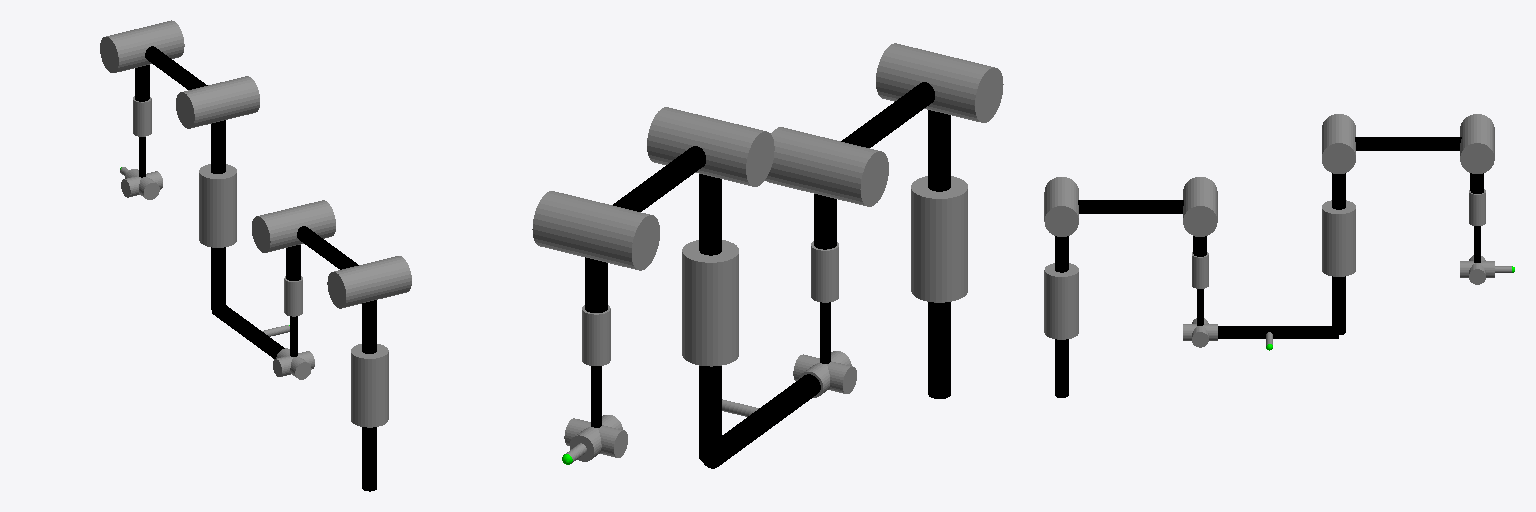
--- Render facts (derived) ---
Views: 3 orthographic renders of the robot side by side, from view 1: azimuth 30°, elevation 25°; view 2: azimuth 150°, elevation 25°; view 3: azimuth 270°, elevation 25°.
Model twelvedof with 48 links and 47 joints (12 continuous, 35 fixed), rooted at world, posed all joints at 0.
Visible links, largest first — view 1: motor2, motor8, motor7, motor1, motor9, motor3, mountl, mount1, mount7, mount2, mount8, motor4 (+3 smaller); view 2: motor9, motor1, motor7, motor3, motor8, motor2, mountl, mount7, mount1, mount2, mount8, motor10 (+13 smaller); view 3: motor1, motor7, motor2, motor3, motor9, motor8, mountl, mount1, mount7, mount10, mount4, mount3 (+3 smaller).
Link boxes in pixels (left/top/right/bottom): motor2: left=327, top=256, right=411, bottom=308; motor8: left=176, top=76, right=259, bottom=128; motor7: left=199, top=164, right=236, bottom=247; motor1: left=351, top=344, right=388, bottom=427; motor9: left=100, top=20, right=184, bottom=72; motor3: left=252, top=200, right=335, bottom=252; mountl: left=212, top=304, right=284, bottom=358; mount1: left=362, top=427, right=376, bottom=491; mount7: left=211, top=247, right=225, bottom=309; mount2: left=362, top=300, right=376, bottom=353; mount8: left=211, top=120, right=225, bottom=173; motor4: left=284, top=276, right=302, bottom=316; motor9: left=532, top=191, right=659, bottom=270; motor1: left=911, top=176, right=967, bottom=302; motor7: left=682, top=240, right=738, bottom=366; motor3: left=765, top=127, right=888, bottom=206; motor8: left=647, top=107, right=774, bottom=186; motor2: left=876, top=43, right=1003, bottom=122; mountl: left=702, top=374, right=820, bottom=468; mount7: left=699, top=366, right=721, bottom=462; mount1: left=928, top=302, right=950, bottom=398; mount2: left=928, top=110, right=950, bottom=191; mount8: left=699, top=174, right=721, bottom=255; motor10: left=582, top=305, right=610, bottom=365; motor1: left=1044, top=263, right=1078, bottom=339; motor7: left=1322, top=200, right=1355, bottom=276; motor2: left=1044, top=177, right=1078, bottom=236; motor3: left=1183, top=177, right=1217, bottom=236; motor9: left=1460, top=114, right=1494, bottom=173; motor8: left=1322, top=114, right=1355, bottom=173; mountl: left=1218, top=326, right=1338, bottom=338; mount1: left=1055, top=339, right=1068, bottom=397; mount7: left=1332, top=276, right=1345, bottom=334; mount10: left=1408, top=137, right=1461, bottom=150; mount4: left=1131, top=200, right=1183, bottom=213; mount3: left=1078, top=200, right=1130, bottom=213.
Size in the robot's own frame: 0.21 by 1.36 by 0.85 metres.
Geometry: primitives only (box / cylinder / sphere), no mesh files.

The robot description file, URDF, robot "twelvedof":
<?xml version="1.0"?>

<robot name="twelvedof">
  
  <!-- *************************************************** -->
  <!-- ******************** Kinematics ******************* -->
  <!-- *************************************************** -->

  <link name="world"/>

  <joint name="theta1" type="continuous">
    <parent link="world"/>
    <child  link="link1"/>
    <origin xyz="0 0 0.6" rpy="0 0 0"/>
    <axis   xyz="0 0 1"/>
    <dynamics damping="5.0"/>
  </joint>

  <link name="link1"/>

  <joint name="theta2" type="continuous">
    <parent link="link1"/>
    <child  link="link2"/>
    <origin xyz="0 0 0" rpy="0 0 0"/>
    <axis   xyz="1 0 0"/>
    <dynamics damping="5.0"/>
  </joint>

  <link name="link2"/>

  <joint name="attach-shoulder" type="fixed">
    <parent link="link2"/>
    <child  link="shoulder"/>
  </joint>

  <link name="shoulder"/>

  <joint name="theta3" type="continuous">
    <parent link="link2"/>
    <child  link="link3"/>
    <origin xyz="0 0.4 0" rpy="-1.5708 0 0"/>
    <axis   xyz="1 0 0 "/>
    <dynamics damping="1.0"/>
  </joint>

  <link name="link3"/>

  <joint name="attach-elbow" type="fixed">
    <parent link="link3"/>
    <child  link="elbow"/>
  </joint>

  <link name="elbow"/>

  <joint name="theta4" type="continuous">
    <parent link="link3"/>
    <child  link="link4"/>
    <origin xyz="0 0.4 0" rpy="0 0 0"/>
    <axis   xyz="0 1 0"/>
    <dynamics damping="0.2"/>
  </joint>

  <link name="link4"/>

  <joint name="theta5" type="continuous">
    <parent link="link4"/>
    <child  link="link5"/>
    <origin xyz="0 0 0" rpy="0 0 0"/>
    <axis   xyz="0 0 1"/>
    <dynamics damping="0.2"/>
  </joint>

  <link name="link5"/>

  <joint name="theta6" type="continuous">
    <parent link="link5"/>
    <child  link="link6"/>
    <origin xyz="0 0 0" rpy="0 0 0"/>
    <axis   xyz="1 0 0"/>
    <dynamics damping="0.2"/>
  </joint>

  <link name="link6"/>

  <joint name="final1" type="fixed">
    <parent link="link6"/>
    <child  link="tip1"/>
    <origin xyz="0.1 0.0 0.2" rpy="1.5708 1.5708 0"/>
  </joint>

  <link name="tip1"/>


  <!-- Second 6dof -->
    <joint name="theta7" type="continuous">
    <parent link="link6"/>
    <child  link="link7"/>
    <origin xyz="0.0 -0.6 0.4" rpy="1.5708 0 0"/>
    <axis   xyz="0 0 1"/>
    <dynamics damping="5.0"/>
  </joint>

  <link name="link7"/>

  <joint name="theta8" type="continuous">
    <parent link="link7"/>
    <child  link="link8"/>
    <origin xyz="0 0 0" rpy="0 0 0"/>
    <axis   xyz="1 0 0"/>
    <dynamics damping="5.0"/>
  </joint>

  <link name="link8"/>

  <joint name="attach-shoulder2" type="fixed">
    <parent link="link8"/>
    <child  link="shoulder2"/>
  </joint>

  <link name="shoulder2"/>

  <joint name="theta9" type="continuous">
    <parent link="link8"/>
    <child  link="link9"/>
    <origin xyz="0 0.4 0" rpy="-1.5708 0 0"/>
    <axis   xyz="1 0 0 "/>
    <dynamics damping="1.0"/>
  </joint>

  <link name="link9"/>

  <joint name="attach-elbow2" type="fixed">
    <parent link="link9"/>
    <child  link="elbow2"/>
  </joint>

  <link name="elbow2"/>

  <joint name="theta10" type="continuous">
    <parent link="link9"/>
    <child  link="link10"/>
    <origin xyz="0 0.4 0" rpy="0 0 0"/>
    <axis   xyz="0 1 0"/>
    <dynamics damping="0.2"/>
  </joint>

  <link name="link10"/>

  <joint name="theta11" type="continuous">
    <parent link="link10"/>
    <child  link="link11"/>
    <origin xyz="0 0 0" rpy="0 0 0"/>
    <axis   xyz="0 0 1"/>
    <dynamics damping="0.2"/>
  </joint>

  <link name="link11"/>

  <joint name="theta12" type="continuous">
    <parent link="link11"/>
    <child  link="link12"/>
    <origin xyz="0 0 0" rpy="0 0 0"/>
    <axis   xyz="1 0 0"/>
    <dynamics damping="0.2"/>
  </joint>

  <link name="link12"/>

  <joint name="final2" type="fixed">
    <parent link="link12"/>
    <child  link="tip2"/>
    <origin xyz="0.0 0.0 0.1" rpy="1.5708 0 0"/>
  </joint>

  <link name="tip2"/>


  <!-- *************************************************** -->
  <!-- ******************* RVIZ Colors ******************* -->
  <!-- *************************************************** -->

  <material name="white">    <color rgba="1.00 1.00 1.00 1"/>  </material>
  <material name="gray">     <color rgba="0.60 0.60 0.60 1"/>  </material>
  <material name="table">    <color rgba="0.85 0.77 0.77 1"/>  </material>
  <material name="black">    <color rgba="0.00 0.00 0.00 1"/>  </material>

  <material name="red">      <color rgba="1.00 0.00 0.00 1"/>  </material>
  <material name="green">    <color rgba="0.00 1.00 0.00 1"/>  </material>
  <material name="blue">     <color rgba="0.00 0.00 1.00 1"/>  </material>

  <material name="cyan">     <color rgba="0.00 1.00 1.00 1"/>  </material>
  <material name="magenta">  <color rgba="1.00 0.00 1.00 1"/>  </material>
  <material name="yellow">   <color rgba="1.00 1.00 0.00 1"/>  </material>

  <material name="orange">   <color rgba="1.00 0.65 0.00 1"/>  </material>


  <!-- *************************************************** -->
  <!-- ****** Building Blocks (Visual AND Inertial) ****** -->
  <!-- *************************************************** -->

  <!-- *** World-Fixed: Mount 1, Motor 1 *** -->

  <joint name="attach-mount1" type="fixed">
    <parent link="world"/>
    <child  link="mount1"/>
  </joint>
  <link name="mount1">
    <visual>
      <origin xyz="0 0 0.1" rpy="0 0 0"/>
      <geometry>
	<cylinder length="0.2" radius="0.02"/>
      </geometry>
      <material name="black"/>
    </visual>
    <collision>
      <origin xyz="0 0 0.1" rpy="0 0 0"/>
      <geometry>
	<cylinder length="0.2" radius="0.02"/>
      </geometry>
    </collision>
    <inertial>
      <origin xyz="0 0 0.1" rpy="0 0 0"/>
      <mass value="0.2"/>
      <inertia
        ixx="0.000687" ixy="0.0" ixz="0.0"
        iyy="0.000687" iyz="0.0"
        izz="0.000040"/>
    </inertial>
  </link>

  <joint name="attach-motor1" type="fixed">
    <parent link="world"/>
    <child  link="motor1"/>
  </joint>
  <link name="motor1">
    <visual>
      <origin xyz="0 0 0.3" rpy="0 0 0"/>
      <geometry>
	<cylinder length="0.2" radius="0.05"/>
      </geometry>
      <material name="gray"/>
    </visual>
    <collision>
      <origin xyz="0 0 0.3" rpy="0 0 0"/>
      <geometry>
	<cylinder length="0.2" radius="0.05"/>
      </geometry>
    </collision>
    <inertial>
      <origin xyz="0 0 0.3" rpy="0 0 0"/>
      <mass value="2.0"/>
      <inertia
        ixx="0.007917" ixy="0.0" ixz="0.0"
        iyy="0.007917" iyz="0.0"
        izz="0.002500"/>
    </inertial>
  </link>

  <!-- *** Motor 1 Output: Mount 2, Motor 2 *** -->

  <joint name="attach-mount2" type="fixed">
    <parent link="link1"/>
    <child  link="mount2"/>
  </joint>
  <link name="mount2">
    <visual>
      <origin xyz="0 0 -0.1" rpy="0 0 0"/>
      <geometry>
	<cylinder length="0.2" radius="0.02"/>
      </geometry>
      <material name="black"/>
    </visual>
    <collision>
      <origin xyz="0 0 -0.1" rpy="0 0 0"/>
      <geometry>
	<cylinder length="0.2" radius="0.02"/>
      </geometry>
    </collision>
    <inertial>
      <origin xyz="0 0 -0.1" rpy="0 0 0"/>
      <mass value="0.2"/>
      <inertia
        ixx="0.000687" ixy="0.0" ixz="0.0"
        iyy="0.000687" iyz="0.0"
        izz="1.000040"/>
    </inertial>
  </link>

  <joint name="attach-motor2" type="fixed">
    <parent link="link1"/>
    <child  link="motor2"/>
  </joint>
  <link name="motor2">
    <visual>
      <origin xyz="0 0 0" rpy="0 1.5708 0"/>
      <geometry>
	<cylinder length="0.2" radius="0.05"/>
      </geometry>
      <material name="gray"/>
    </visual>
    <collision>
      <origin xyz="0 0 0" rpy="0 1.5708 0"/>
      <geometry>
	<cylinder length="0.2" radius="0.05"/>
      </geometry>
    </collision>
    <inertial>
      <origin xyz="0 0 0" rpy="0 1.5708 0"/>
      <mass value="2.0"/>
      <inertia
        ixx="0.007917" ixy="0.0" ixz="0.0"
        iyy="0.007917" iyz="0.0"
        izz="0.002500"/>
    </inertial>
  </link>

  <!-- *** Motor 2 Output: Mount 3, Motor 3 *** -->

  <joint name="attach-mount3" type="fixed">
    <parent link="link2"/>
    <child  link="mount3"/>
  </joint>
  <link name="mount3">
    <visual>
      <origin xyz="0 0.1 0" rpy="1.5708 0 0"/>
      <geometry>
	<cylinder length="0.2" radius="0.02"/>
      </geometry>
      <material name="black"/>
    </visual>
    <collision>
      <origin xyz="0 0.1 0" rpy="1.5708 0 0"/>
      <geometry>
	<cylinder length="0.2" radius="0.02"/>
      </geometry>
    </collision>
    <inertial>
      <origin xyz="0 0.1 0" rpy="1.5708 0 0"/>
      <mass value="0.2"/>
      <inertia
        ixx="1.000687" ixy="0.0" ixz="0.0"
        iyy="0.000687" iyz="0.0"
        izz="0.000040"/>
    </inertial>
  </link>

  <joint name="attach-mount4" type="fixed">
    <parent link="link2"/>
    <child  link="mount4"/>
  </joint>
  <link name="mount4">
    <visual>
      <origin xyz="0 0.3 0" rpy="1.5708 0 0"/>
      <geometry>
	<cylinder length="0.2" radius="0.02"/>
      </geometry>
      <material name="black"/>
    </visual>
    <collision>
      <origin xyz="0 0.3 0" rpy="1.5708 0 0"/>
      <geometry>
	<cylinder length="0.2" radius="0.02"/>
      </geometry>
    </collision>
    <inertial>
      <origin xyz="0 0.3 0" rpy="1.5708 0 0"/>
      <mass value="0.2"/>
      <inertia
        ixx="0.000687" ixy="0.0" ixz="0.0"
        iyy="0.000687" iyz="0.0"
        izz="1.000040"/>
    </inertial>
  </link>

  <joint name="attach-motor3" type="fixed">
    <parent link="link2"/>
    <child  link="motor3"/>
  </joint>
  <link name="motor3">
    <visual>
      <origin xyz="0 0.4 0" rpy="0 1.5708 0"/>
      <geometry>
	<cylinder length="0.2" radius="0.05"/>
      </geometry>
      <material name="gray"/>
    </visual>
    <collision>
      <origin xyz="0 0.4 0" rpy="0 1.5708 0"/>
      <geometry>
	<cylinder length="0.2" radius="0.05"/>
      </geometry>
    </collision>
    <inertial>
      <origin xyz="0 0.4 0" rpy="0 1.5708 0"/>
      <mass value="2.0"/>
      <inertia
        ixx="0.007917" ixy="0.0" ixz="0.0"
        iyy="0.007917" iyz="0.0"
        izz="0.002500"/>
    </inertial>
  </link>

  <!-- *** Motor 4 Output: Mount 5, Motor 5 *** -->

  <joint name="attach-mount5" type="fixed">
    <parent link="link3"/>
    <child  link="mount5"/>
  </joint>
  <link name="mount5">
    <visual>
      <origin xyz="0 0.1 0" rpy="1.5708 0 0"/>
      <geometry>
	<cylinder length="0.2" radius="0.02"/>
      </geometry>
      <material name="black"/>
    </visual>
    <collision>
      <origin xyz="0 0.1 0" rpy="1.5708 0 0"/>
      <geometry>
	<cylinder length="0.2" radius="0.02"/>
      </geometry>
    </collision>
    <inertial>
      <origin xyz="0 0.1 0" rpy="1.5708 0 0"/>
      <mass value="0.2"/>
      <inertia
        ixx="0.500687" ixy="0.0" ixz="0.0"
        iyy="0.000687" iyz="0.0"
        izz="0.000040"/>
    </inertial>
  </link>

  <joint name="attach-motor4" type="fixed">
    <parent link="link3"/>
    <child  link="motor4"/>
  </joint>
  <link name="motor4">
    <visual>
      <origin xyz="0 0.2 0" rpy="1.5708 0 0"/>
      <geometry>
	<cylinder length="0.1" radius="0.025"/>
      </geometry>
      <material name="gray"/>
    </visual>
    <collision>
      <origin xyz="0 0.2 0" rpy="1.5708 0 0"/>
      <geometry>
	<cylinder length="0.1" radius="0.025"/>
      </geometry>
    </collision>
    <inertial>
      <origin xyz="0 0.2 0" rpy="1.5708 0 0"/>
      <mass value="1.0"/>
      <inertia
        ixx="0.000990" ixy="0.0" ixz="0.0"
        iyy="0.000990" iyz="0.0"
        izz="0.000313"/>
    </inertial>
  </link>

  <!-- *** Motor 5 Output: Mount 6, Motor 6 *** -->

  <joint name="attach-mount6" type="fixed">
    <parent link="link4"/>
    <child  link="mount6"/>
  </joint>
  <link name="mount6">
    <visual>
      <origin xyz="0 -0.1 0" rpy="1.5708 0 0"/>
      <geometry>
	<cylinder length="0.2" radius="0.01"/>
      </geometry>
      <material name="black"/>
    </visual>
    <collision>
      <origin xyz="0 -0.1 0" rpy="1.5708 0 0"/>
      <geometry>
	<cylinder length="0.2" radius="0.01"/>
      </geometry>
    </collision>
    <inertial>
      <origin xyz="0 -0.1 0" rpy="1.5708 0 0"/>
      <mass value="0.1"/>
      <inertia
        ixx="0.000336" ixy="0.0" ixz="0.0"
        iyy="0.000336" iyz="0.0"
        izz="0.500005"/>
    </inertial>
  </link>

  <joint name="attach-motor5" type="fixed">
    <parent link="link4"/>
    <child  link="motor5"/>
  </joint>
  <link name="motor5">
    <visual>
      <origin xyz="0 0 0" rpy="0 0 0"/>
      <geometry>
	<cylinder length="0.1" radius="0.025"/>
      </geometry>
      <material name="gray"/>
    </visual>
    <collision>
      <origin xyz="0 0 0" rpy="0 0 0"/>
      <geometry>
	<cylinder length="0.1" radius="0.025"/>
      </geometry>
    </collision>
    <inertial>
      <origin xyz="0 0 0" rpy="0 0 0"/>
      <mass value="1.0"/>
      <inertia
        ixx="0.000990" ixy="0.0" ixz="0.0"
        iyy="0.000990" iyz="0.0"
        izz="0.000313"/>
    </inertial>
  </link>

  <!-- *** Motor 6 Output: Motor 7 *** -->

  <joint name="attach-motor6" type="fixed">
    <parent link="link5"/>
    <child  link="motor6"/>
  </joint>
  <link name="motor6">
    <visual>
      <origin xyz="0 0 0" rpy="0 1.5708 0"/>
      <geometry>
	<cylinder length="0.1" radius="0.025"/>
      </geometry>
      <material name="gray"/>
    </visual>
    <collision>
      <origin xyz="0 0 0" rpy="0 1.5708 0"/>
      <geometry>
	<cylinder length="0.1" radius="0.025"/>
      </geometry>
    </collision>
    <inertial>
      <origin xyz="0 0 0" rpy="0 1.5708 0"/>
      <mass value="1.0"/>
      <inertia
        ixx="0.500990" ixy="0.0" ixz="0.0"
        iyy="0.000990" iyz="0.0"
        izz="0.000313"/>
    </inertial>
  </link>

  <!-- *** Drawing Sphere *** -->

  <joint name="attach-sphere" type="fixed">
    <parent link="tip1"/>
    <child  link="sphere"/>
  </joint>
  <link name="sphere">
    <visual>
      <origin xyz="0 0 0" rpy="0 0 0"/>
      <geometry>
	      <sphere radius="0.01"/>
      </geometry>
      <material name="green"/>
    </visual>
    <collision>
      <origin xyz="0 0 0" rpy="0 0 0"/>
      <geometry>
	      <sphere radius="0.01"/>
      </geometry>
      <material name="green"/>
    </collision>
    <inertial>
      <origin xyz="0 0 0" rpy="0 0 0"/>
      <mass value="1.0"/>
      <inertia
        ixx="0.01" ixy="0.0" ixz="0.0"
        iyy="0.01" iyz="0.0"
        izz="0.01"/>
    </inertial>
  </link>


  <joint name="attach-cylinder" type="fixed">
    <parent link="tip1"/>
    <child  link="cylinder"/>
  </joint>
  <link name="cylinder">
    <visual>
      <origin xyz="0 -0.05 0" rpy="1.5708 0 0"/>
      <geometry>
	      <cylinder length="0.1" radius="0.01"/>
      </geometry>
      <material name="gray"/>
    </visual>
    <collision>
      <origin xyz="0 -0.05 0" rpy="1.5708 0 0"/>
      <geometry>
	      <cylinder length="0.1" radius="0.01"/>
      </geometry>
    </collision>
    <inertial>
      <origin xyz="0 0 0" rpy="0 1.5708 0"/>
      <mass value="1.0"/>
      <inertia
        ixx="0.500990" ixy="0.0" ixz="0.0"
        iyy="0.000990" iyz="0.0"
        izz="0.000313"/>
    </inertial>
  </link>


  <!-- Second 6dof -->
  <!-- *** World-Fixed: Mount 1, Motor 1 *** -->
  <joint name="attach-mountl" type="fixed">
    <parent link="link6"/>
    <child  link="mountl"/>
  </joint>
  <link name="mountl">
    <visual>
      <origin xyz="0 0.0 0.2" rpy="0 0 0"/>
      <geometry>
	<cylinder length="0.4" radius="0.02"/>
      </geometry>
      <material name="black"/>
    </visual>
    <collision>
      <origin xyz="0 -0.1 0.4" rpy="1.5708 0 0"/>
      <geometry>
	<cylinder length="0.2" radius="0.02"/>
      </geometry>
    </collision>
    <inertial>
      <origin xyz="0 -0.1 0.4" rpy="1.5708 0 0"/>
      <mass value="0.2"/>
      <inertia
        ixx="0.000687" ixy="0.0" ixz="0.0"
        iyy="0.000687" iyz="0.0"
        izz="0.000040"/>
    </inertial>
  </link>


  <joint name="attach-mount7" type="fixed">
    <parent link="link6"/>
    <child  link="mount7"/>
  </joint>
  <link name="mount7">
    <visual>
      <origin xyz="0 -0.1 0.4" rpy="1.5708 0 0"/>
      <geometry>
	<cylinder length="0.2" radius="0.02"/>
      </geometry>
      <material name="black"/>
    </visual>
    <collision>
      <origin xyz="0 -0.1 0.4" rpy="1.5708 0 0"/>
      <geometry>
	<cylinder length="0.2" radius="0.02"/>
      </geometry>
    </collision>
    <inertial>
      <origin xyz="0 -0.1 0.4" rpy="1.5708 0 0"/>
      <mass value="0.2"/>
      <inertia
        ixx="0.000687" ixy="0.0" ixz="0.0"
        iyy="0.000687" iyz="0.0"
        izz="0.000040"/>
    </inertial>
  </link>

  <joint name="attach-motor7" type="fixed">
    <parent link="link6"/>
    <child  link="motor7"/>
  </joint>
  <link name="motor7">
    <visual>
      <origin xyz="0 -0.3 0.4" rpy="1.5708 0 0"/>
      <geometry>
	<cylinder length="0.2" radius="0.05"/>
      </geometry>
      <material name="gray"/>
    </visual>
    <collision>
      <origin xyz="0 -0.3 0.4" rpy="1.5708 0 0"/>
      <geometry>
	<cylinder length="0.2" radius="0.05"/>
      </geometry>
    </collision>
    <inertial>
      <origin xyz="0 -0.3 0.4" rpy="1.5708 0 0"/>
      <mass value="2.0"/>
      <inertia
        ixx="0.007917" ixy="0.0" ixz="0.0"
        iyy="0.007917" iyz="0.0"
        izz="0.002500"/>
    </inertial>
  </link>

  <!-- *** Motor 1 Output: Mount 2, Motor 2 *** -->

  <joint name="attach-mount8" type="fixed">
    <parent link="link7"/>
    <child  link="mount8"/>
  </joint>
  <link name="mount8">
    <visual>
      <origin xyz="0 0 -0.1" rpy="0 0 0"/>
      <geometry>
	<cylinder length="0.2" radius="0.02"/>
      </geometry>
      <material name="black"/>
    </visual>
    <collision>
      <origin xyz="0 0 -0.1" rpy="0 0 0"/>
      <geometry>
	<cylinder length="0.2" radius="0.02"/>
      </geometry>
    </collision>
    <inertial>
      <origin xyz="0 0 -0.1" rpy="0 0 0"/>
      <mass value="0.2"/>
      <inertia
        ixx="0.000687" ixy="0.0" ixz="0.0"
        iyy="0.000687" iyz="0.0"
        izz="1.000040"/>
    </inertial>
  </link>

  <joint name="attach-motor8" type="fixed">
    <parent link="link7"/>
    <child  link="motor8"/>
  </joint>
  <link name="motor8">
    <visual>
      <origin xyz="0 0 0" rpy="0 1.5708 0"/>
      <geometry>
	<cylinder length="0.2" radius="0.05"/>
      </geometry>
      <material name="gray"/>
    </visual>
    <collision>
      <origin xyz="0 0 0" rpy="0 1.5708 0"/>
      <geometry>
	<cylinder length="0.2" radius="0.05"/>
      </geometry>
    </collision>
    <inertial>
      <origin xyz="0 0 0" rpy="0 1.5708 0"/>
      <mass value="2.0"/>
      <inertia
        ixx="0.007917" ixy="0.0" ixz="0.0"
        iyy="0.007917" iyz="0.0"
        izz="0.002500"/>
    </inertial>
  </link>

  <!-- *** Motor 2 Output: Mount 3, Motor 3 *** -->

  <joint name="attach-mount9" type="fixed">
    <parent link="link8"/>
    <child  link="mount9"/>
  </joint>
  <link name="mount9">
    <visual>
      <origin xyz="0 0.1 0" rpy="1.5708 0 0"/>
      <geometry>
	<cylinder length="0.2" radius="0.02"/>
      </geometry>
      <material name="black"/>
    </visual>
    <collision>
      <origin xyz="0 0.1 0" rpy="1.5708 0 0"/>
      <geometry>
	<cylinder length="0.2" radius="0.02"/>
      </geometry>
    </collision>
    <inertial>
      <origin xyz="0 0.1 0" rpy="1.5708 0 0"/>
      <mass value="0.2"/>
      <inertia
        ixx="1.000687" ixy="0.0" ixz="0.0"
        iyy="0.000687" iyz="0.0"
        izz="0.000040"/>
    </inertial>
  </link>

  <joint name="attach-mount10" type="fixed">
    <parent link="link8"/>
    <child  link="mount10"/>
  </joint>
  <link name="mount10">
    <visual>
      <origin xyz="0 0.3 0" rpy="1.5708 0 0"/>
      <geometry>
	<cylinder length="0.2" radius="0.02"/>
      </geometry>
      <material name="black"/>
    </visual>
    <collision>
      <origin xyz="0 0.3 0" rpy="1.5708 0 0"/>
      <geometry>
	<cylinder length="0.2" radius="0.02"/>
      </geometry>
    </collision>
    <inertial>
      <origin xyz="0 0.3 0" rpy="1.5708 0 0"/>
      <mass value="0.2"/>
      <inertia
        ixx="0.000687" ixy="0.0" ixz="0.0"
        iyy="0.000687" iyz="0.0"
        izz="1.000040"/>
    </inertial>
  </link>

  <joint name="attach-motor9" type="fixed">
    <parent link="link8"/>
    <child  link="motor9"/>
  </joint>
  <link name="motor9">
    <visual>
      <origin xyz="0 0.4 0" rpy="0 1.5708 0"/>
      <geometry>
	<cylinder length="0.2" radius="0.05"/>
      </geometry>
      <material name="gray"/>
    </visual>
    <collision>
      <origin xyz="0 0.4 0" rpy="0 1.5708 0"/>
      <geometry>
	<cylinder length="0.2" radius="0.05"/>
      </geometry>
    </collision>
    <inertial>
      <origin xyz="0 0.4 0" rpy="0 1.5708 0"/>
      <mass value="2.0"/>
      <inertia
        ixx="0.007917" ixy="0.0" ixz="0.0"
        iyy="0.007917" iyz="0.0"
        izz="0.002500"/>
    </inertial>
  </link>

  <!-- *** Motor 4 Output: Mount 5, Motor 5 *** -->

  <joint name="attach-mount11" type="fixed">
    <parent link="link9"/>
    <child  link="mount11"/>
  </joint>
  <link name="mount11">
    <visual>
      <origin xyz="0 0.1 0" rpy="1.5708 0 0"/>
      <geometry>
	<cylinder length="0.2" radius="0.02"/>
      </geometry>
      <material name="black"/>
    </visual>
    <collision>
      <origin xyz="0 0.1 0" rpy="1.5708 0 0"/>
      <geometry>
	<cylinder length="0.2" radius="0.02"/>
      </geometry>
    </collision>
    <inertial>
      <origin xyz="0 0.1 0" rpy="1.5708 0 0"/>
      <mass value="0.2"/>
      <inertia
        ixx="0.500687" ixy="0.0" ixz="0.0"
        iyy="0.000687" iyz="0.0"
        izz="0.000040"/>
    </inertial>
  </link>

  <joint name="attach-motor10" type="fixed">
    <parent link="link9"/>
    <child  link="motor10"/>
  </joint>
  <link name="motor10">
    <visual>
      <origin xyz="0 0.2 0" rpy="1.5708 0 0"/>
      <geometry>
	<cylinder length="0.1" radius="0.025"/>
      </geometry>
      <material name="gray"/>
    </visual>
    <collision>
      <origin xyz="0 0.2 0" rpy="1.5708 0 0"/>
      <geometry>
	<cylinder length="0.1" radius="0.025"/>
      </geometry>
    </collision>
    <inertial>
      <origin xyz="0 0.2 0" rpy="1.5708 0 0"/>
      <mass value="1.0"/>
      <inertia
        ixx="0.000990" ixy="0.0" ixz="0.0"
        iyy="0.000990" iyz="0.0"
        izz="0.000313"/>
    </inertial>
  </link>

  <!-- *** Motor 5 Output: Mount 6, Motor 6 *** -->

  <joint name="attach-mount12" type="fixed">
    <parent link="link10"/>
    <child  link="mount12"/>
  </joint>
  <link name="mount12">
    <visual>
      <origin xyz="0 -0.1 0" rpy="1.5708 0 0"/>
      <geometry>
	<cylinder length="0.2" radius="0.01"/>
      </geometry>
      <material name="black"/>
    </visual>
    <collision>
      <origin xyz="0 -0.1 0" rpy="1.5708 0 0"/>
      <geometry>
	<cylinder length="0.2" radius="0.01"/>
      </geometry>
    </collision>
    <inertial>
      <origin xyz="0 -0.1 0" rpy="1.5708 0 0"/>
      <mass value="0.1"/>
      <inertia
        ixx="0.000336" ixy="0.0" ixz="0.0"
        iyy="0.000336" iyz="0.0"
        izz="0.500005"/>
    </inertial>
  </link>

  <joint name="attach-motor11" type="fixed">
    <parent link="link10"/>
    <child  link="motor11"/>
  </joint>
  <link name="motor11">
    <visual>
      <origin xyz="0 0 0" rpy="0 0 0"/>
      <geometry>
	<cylinder length="0.1" radius="0.025"/>
      </geometry>
      <material name="gray"/>
    </visual>
    <collision>
      <origin xyz="0 0 0" rpy="0 0 0"/>
      <geometry>
	<cylinder length="0.1" radius="0.025"/>
      </geometry>
    </collision>
    <inertial>
      <origin xyz="0 0 0" rpy="0 0 0"/>
      <mass value="1.0"/>
      <inertia
        ixx="0.000990" ixy="0.0" ixz="0.0"
        iyy="0.000990" iyz="0.0"
        izz="0.000313"/>
    </inertial>
  </link>

  <!-- *** Motor 6 Output: Motor 7 *** -->

  <joint name="attach-motor12" type="fixed">
    <parent link="link11"/>
    <child  link="motor12"/>
  </joint>
  <link name="motor12">
    <visual>
      <origin xyz="0 0 0" rpy="0 1.5708 0"/>
      <geometry>
	<cylinder length="0.1" radius="0.025"/>
      </geometry>
      <material name="gray"/>
    </visual>
    <collision>
      <origin xyz="0 0 0" rpy="0 1.5708 0"/>
      <geometry>
	<cylinder length="0.1" radius="0.025"/>
      </geometry>
    </collision>
    <inertial>
      <origin xyz="0 0 0" rpy="0 1.5708 0"/>
      <mass value="1.0"/>
      <inertia
        ixx="0.500990" ixy="0.0" ixz="0.0"
        iyy="0.000990" iyz="0.0"
        izz="0.000313"/>
    </inertial>
  </link>

  <!-- *** Drawing Sphere *** -->

  <joint name="attach-sphere2" type="fixed">
    <parent link="tip2"/>
    <child  link="sphere2"/>
  </joint>
  <link name="sphere2">
    <visual>
      <origin xyz="0 0 0" rpy="0 0 0"/>
      <geometry>
	      <sphere radius="0.01"/>
      </geometry>
      <material name="green"/>
    </visual>
    <collision>
      <origin xyz="0 0 0" rpy="0 0 0"/>
      <geometry>
	      <sphere radius="0.01"/>
      </geometry>
      <material name="green"/>
    </collision>
    <inertial>
      <origin xyz="0 0 0" rpy="0 0 0"/>
      <mass value="1.0"/>
      <inertia
        ixx="0.01" ixy="0.0" ixz="0.0"
        iyy="0.01" iyz="0.0"
        izz="0.01"/>
    </inertial>
  </link>


  <joint name="attach-cylinder2" type="fixed">
    <parent link="tip2"/>
    <child  link="cylinder2"/>
  </joint>
  <link name="cylinder2">
    <visual>
      <origin xyz="0 -0.05 0" rpy="1.5708 0 0"/>
      <geometry>
	      <cylinder length="0.1" radius="0.01"/>
      </geometry>
      <material name="gray"/>
    </visual>
    <collision>
      <origin xyz="0 -0.05 0" rpy="1.5708 0 0"/>
      <geometry>
	      <cylinder length="0.1" radius="0.01"/>
      </geometry>
    </collision>
    <inertial>
      <origin xyz="0 0 0" rpy="0 1.5708 0"/>
      <mass value="1.0"/>
      <inertia
        ixx="0.500990" ixy="0.0" ixz="0.0"
        iyy="0.000990" iyz="0.0"
        izz="0.000313"/>
    </inertial>
  </link>

  <!-- *************************************************** -->
  <!-- ******************* Gazebo Colors ***************** -->
  <!-- *************************************************** -->

  <gazebo reference="motor1"> <material>Gazebo/Gray</material>  </gazebo>
  <gazebo reference="motor2"> <material>Gazebo/Gray</material>  </gazebo>
  <gazebo reference="motor3"> <material>Gazebo/Gray</material>  </gazebo>
  <gazebo reference="motor4"> <material>Gazebo/Gray</material>  </gazebo>
  <gazebo reference="motor5"> <material>Gazebo/Gray</material>  </gazebo>
  <gazebo reference="motor6"> <material>Gazebo/Gray</material>  </gazebo>
  <gazebo reference="motor7"> <material>Gazebo/Gray</material>  </gazebo>
  <gazebo reference="motor8"> <material>Gazebo/Gray</material>  </gazebo>
  <gazebo reference="motor9"> <material>Gazebo/Gray</material>  </gazebo>
  <gazebo reference="motor10"> <material>Gazebo/Gray</material>  </gazebo>
  <gazebo reference="motor11"> <material>Gazebo/Gray</material>  </gazebo>
  <gazebo reference="motor12"> <material>Gazebo/Gray</material>  </gazebo>

  <gazebo reference="mount1">   <material>Gazebo/Black</material> </gazebo>
  <gazebo reference="mount2">   <material>Gazebo/Black</material> </gazebo>
  <gazebo reference="mount3">   <material>Gazebo/Black</material> </gazebo>
  <gazebo reference="mount4">   <material>Gazebo/Black</material> </gazebo>
  <gazebo reference="mount5">   <material>Gazebo/Black</material> </gazebo>
  <gazebo reference="mount6">   <material>Gazebo/Black</material> </gazebo>
  <gazebo reference="mount7">   <material>Gazebo/Black</material> </gazebo>
  <gazebo reference="mount8">   <material>Gazebo/Black</material> </gazebo>
  <gazebo reference="mount9">   <material>Gazebo/Black</material> </gazebo>
  <gazebo reference="mount10">   <material>Gazebo/Black</material> </gazebo>
  <gazebo reference="mount11">   <material>Gazebo/Black</material> </gazebo>
  <gazebo reference="mount12">   <material>Gazebo/Black</material> </gazebo>
  <gazebo reference="mountl">   <material>Gazebo/Black</material> </gazebo>

  <gazebo reference="sphere">  <material>Gazebo/Green</material>  </gazebo>

  
  <!-- *************************************************** -->
  <!-- ************** Gazebo Transmissions *************** -->
  <!-- *************************************************** -->

  <transmission name="trans1">
    <type>transmission_interface/SimpleTransmission</type>
    <joint name="theta1">
      <hardwareInterface>hardware_interface/EffortJointInterface</hardwareInterface>
    </joint>
    <actuator name="motor1">
      <mechanicalReduction>1</mechanicalReduction>
      <hardwareInterface>hardware_interface/EffortJointInterface</hardwareInterface>
    </actuator>
  </transmission>
  
  <transmission name="trans2">
    <type>transmission_interface/SimpleTransmission</type>
    <joint name="theta2">
      <hardwareInterface>hardware_interface/EffortJointInterface</hardwareInterface>
    </joint>
    <actuator name="motor2">
      <mechanicalReduction>1</mechanicalReduction>
      <hardwareInterface>hardware_interface/EffortJointInterface</hardwareInterface>
    </actuator>
  </transmission>
  
  <transmission name="trans3">
    <type>transmission_interface/SimpleTransmission</type>
    <joint name="theta3">
      <hardwareInterface>hardware_interface/EffortJointInterface</hardwareInterface>
    </joint>
    <actuator name="motor3">
      <mechanicalReduction>1</mechanicalReduction>
      <hardwareInterface>hardware_interface/EffortJointInterface</hardwareInterface>
    </actuator>
  </transmission>
  
  <transmission name="trans4">
    <type>transmission_interface/SimpleTransmission</type>
    <joint name="theta4">
      <hardwareInterface>hardware_interface/EffortJointInterface</hardwareInterface>
    </joint>
    <actuator name="motor4">
      <mechanicalReduction>1</mechanicalReduction>
      <hardwareInterface>hardware_interface/EffortJointInterface</hardwareInterface>
    </actuator>
  </transmission>
  
  <transmission name="trans5">
    <type>transmission_interface/SimpleTransmission</type>
    <joint name="theta5">
      <hardwareInterface>hardware_interface/EffortJointInterface</hardwareInterface>
    </joint>
    <actuator name="motor5">
      <mechanicalReduction>1</mechanicalReduction>
      <hardwareInterface>hardware_interface/EffortJointInterface</hardwareInterface>
    </actuator>
  </transmission>
  
  <transmission name="trans6">
    <type>transmission_interface/SimpleTransmission</type>
    <joint name="theta6">
      <hardwareInterface>hardware_interface/EffortJointInterface</hardwareInterface>
    </joint>
    <actuator name="motor6">
      <mechanicalReduction>1</mechanicalReduction>
      <hardwareInterface>hardware_interface/EffortJointInterface</hardwareInterface>
    </actuator>
  </transmission>

  <!-- Second 6dof -->

    <transmission name="trans7">
    <type>transmission_interface/SimpleTransmission</type>
    <joint name="theta7">
      <hardwareInterface>hardware_interface/EffortJointInterface</hardwareInterface>
    </joint>
    <actuator name="motor7">
      <mechanicalReduction>1</mechanicalReduction>
      <hardwareInterface>hardware_interface/EffortJointInterface</hardwareInterface>
    </actuator>
  </transmission>
  
  <transmission name="trans8">
    <type>transmission_interface/SimpleTransmission</type>
    <joint name="theta8">
      <hardwareInterface>hardware_interface/EffortJointInterface</hardwareInterface>
    </joint>
    <actuator name="motor8">
      <mechanicalReduction>1</mechanicalReduction>
      <hardwareInterface>hardware_interface/EffortJointInterface</hardwareInterface>
    </actuator>
  </transmission>
  
  <transmission name="trans9">
    <type>transmission_interface/SimpleTransmission</type>
    <joint name="theta9">
      <hardwareInterface>hardware_interface/EffortJointInterface</hardwareInterface>
    </joint>
    <actuator name="motor9">
      <mechanicalReduction>1</mechanicalReduction>
      <hardwareInterface>hardware_interface/EffortJointInterface</hardwareInterface>
    </actuator>
  </transmission>
  
  <transmission name="trans10">
    <type>transmission_interface/SimpleTransmission</type>
    <joint name="theta10">
      <hardwareInterface>hardware_interface/EffortJointInterface</hardwareInterface>
    </joint>
    <actuator name="motor10">
      <mechanicalReduction>1</mechanicalReduction>
      <hardwareInterface>hardware_interface/EffortJointInterface</hardwareInterface>
    </actuator>
  </transmission>
  
  <transmission name="trans11">
    <type>transmission_interface/SimpleTransmission</type>
    <joint name="theta11">
      <hardwareInterface>hardware_interface/EffortJointInterface</hardwareInterface>
    </joint>
    <actuator name="motor11">
      <mechanicalReduction>1</mechanicalReduction>
      <hardwareInterface>hardware_interface/EffortJointInterface</hardwareInterface>
    </actuator>
  </transmission>
  
  <transmission name="trans12">
    <type>transmission_interface/SimpleTransmission</type>
    <joint name="theta12">
      <hardwareInterface>hardware_interface/EffortJointInterface</hardwareInterface>
    </joint>
    <actuator name="motor12">
      <mechanicalReduction>1</mechanicalReduction>
      <hardwareInterface>hardware_interface/EffortJointInterface</hardwareInterface>
    </actuator>
  </transmission>

  
  <!-- *************************************************** -->
  <!-- *************** Gazebo Controllers **************** -->
  <!-- *************************************************** -->

  <gazebo>
    <plugin name="gazebo_ros_control" filename="libgazebo_ros_control.so">
      <robotNamespace>/twelvedof</robotNamespace>
      <robotSimType>gazebo_ros_control/DefaultRobotHWSim</robotSimType>
    </plugin>
  </gazebo>

</robot>
